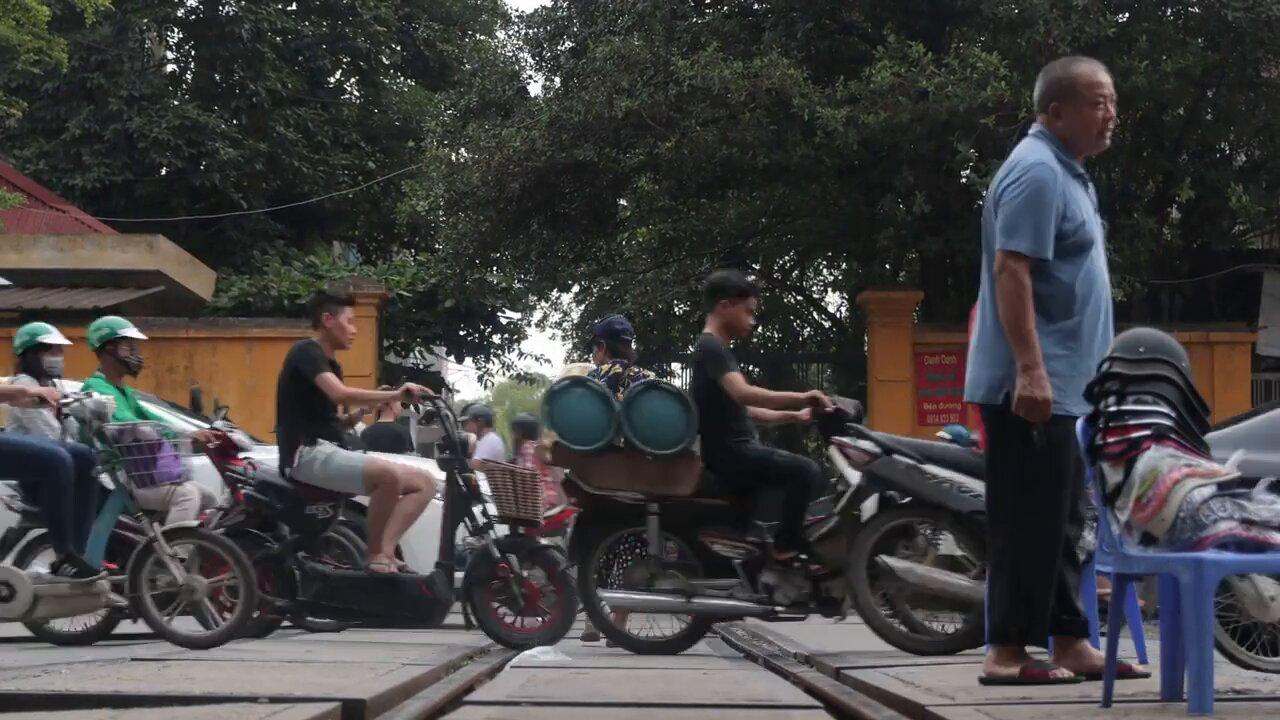driver: (123, 286, 577, 651), (543, 267, 903, 653)
helmet: (86, 315, 150, 380), (13, 321, 73, 380)
no-helmet: (1032, 56, 1117, 155), (703, 269, 757, 340), (305, 286, 359, 351), (583, 312, 639, 368)
